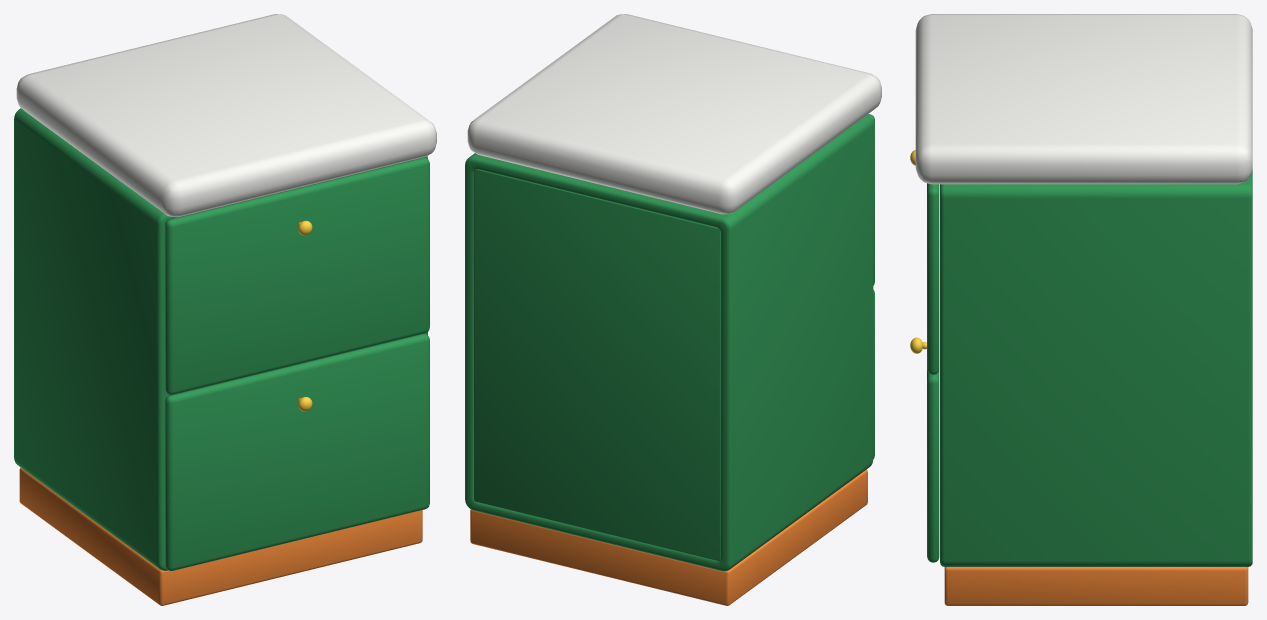
File: gaveteiro_cozinha_2gavetas_verde.glb
3 renders of one model, left to right at view 1: azimuth 30°, elevation 25°; view 2: azimuth 150°, elevation 25°; view 3: azimuth 270°, elevation 25°, orthographic. The views are drawn at different scales.
Parts seen in each view (by area): view 1: gaveteiro_cozinha_2gavetas_verde, gaveta_1, gaveta_2; view 2: gaveteiro_cozinha_2gavetas_verde; view 3: gaveteiro_cozinha_2gavetas_verde, gaveta_2, gaveta_1.
Boxes of the visible parts, bbox=[...] form: gaveteiro_cozinha_2gavetas_verde: bbox=[14, 14, 436, 605]; gaveta_1: bbox=[165, 157, 429, 394]; gaveta_2: bbox=[165, 333, 429, 570]; gaveteiro_cozinha_2gavetas_verde: bbox=[465, 14, 881, 605]; gaveteiro_cozinha_2gavetas_verde: bbox=[915, 14, 1252, 605]; gaveta_2: bbox=[910, 337, 939, 562]; gaveta_1: bbox=[910, 150, 939, 374].
Size of the model in its own units: 0.598 by 0.9 by 0.609.
1 material, 1 textured.
